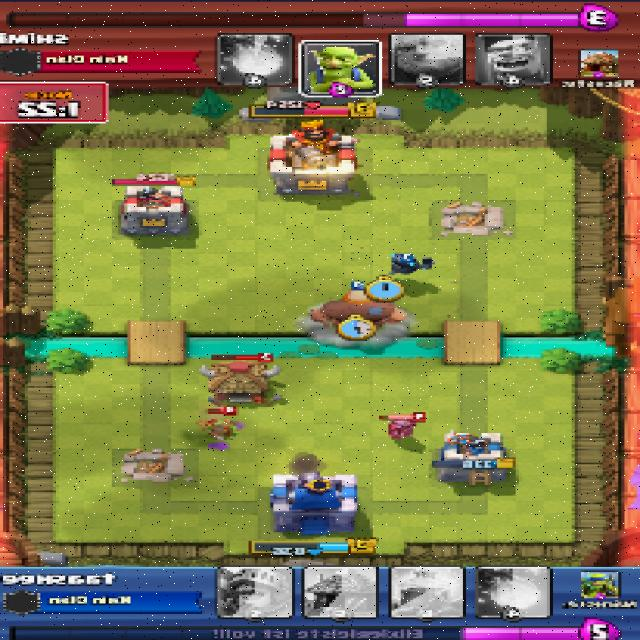Enemy-GoblinHut: (197, 360, 286, 405)
Enemy-MiniPEKKA: (383, 415, 423, 440)
Enemy-SpearGoblin: (200, 421, 240, 440)
Player-Giant: (309, 291, 409, 336)
Player-MiniPEKKA: (388, 252, 437, 276)
